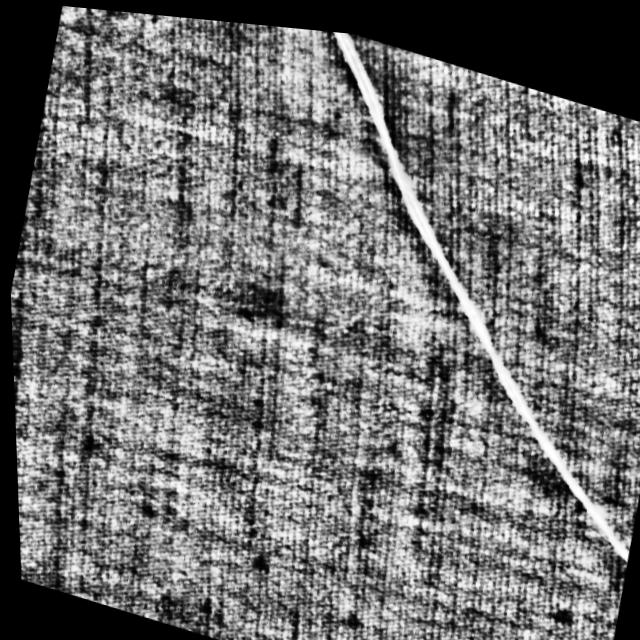Stitch: (211, 16, 640, 584)
